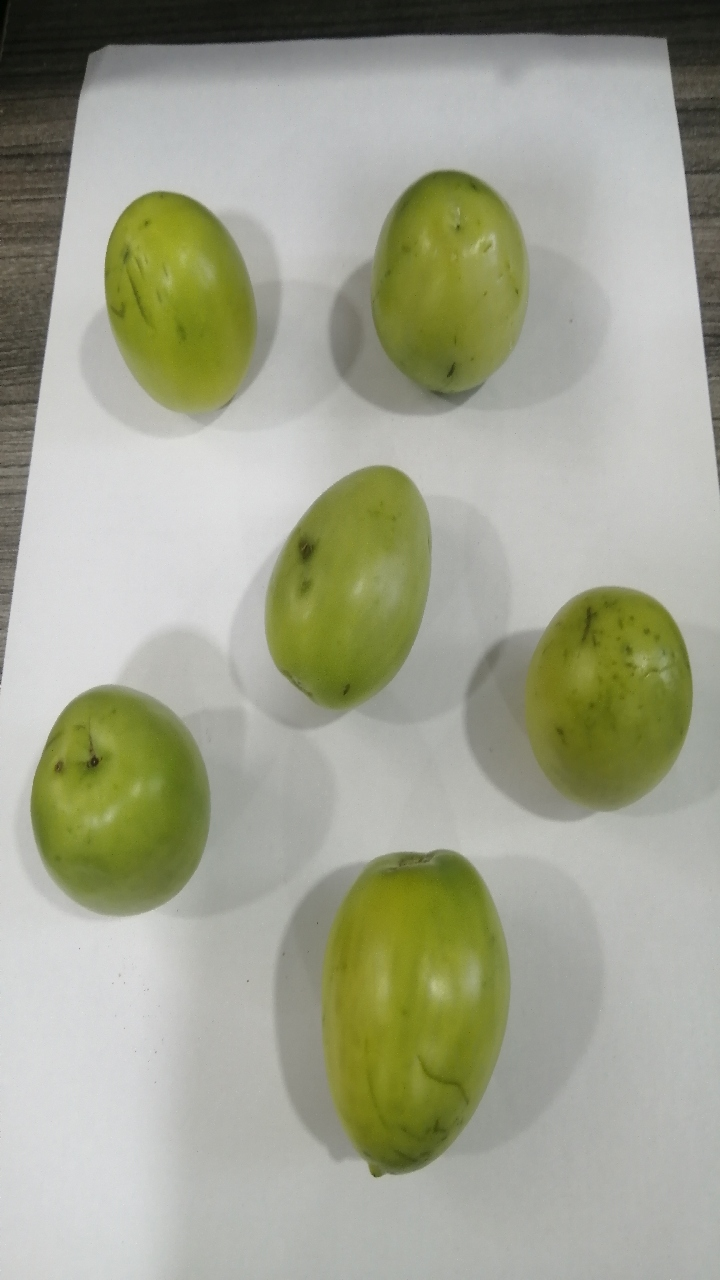tomateVerde: (309, 831, 538, 1195), (11, 654, 243, 942), (235, 442, 468, 712), (72, 177, 289, 437), (357, 149, 552, 420), (514, 569, 695, 820)
